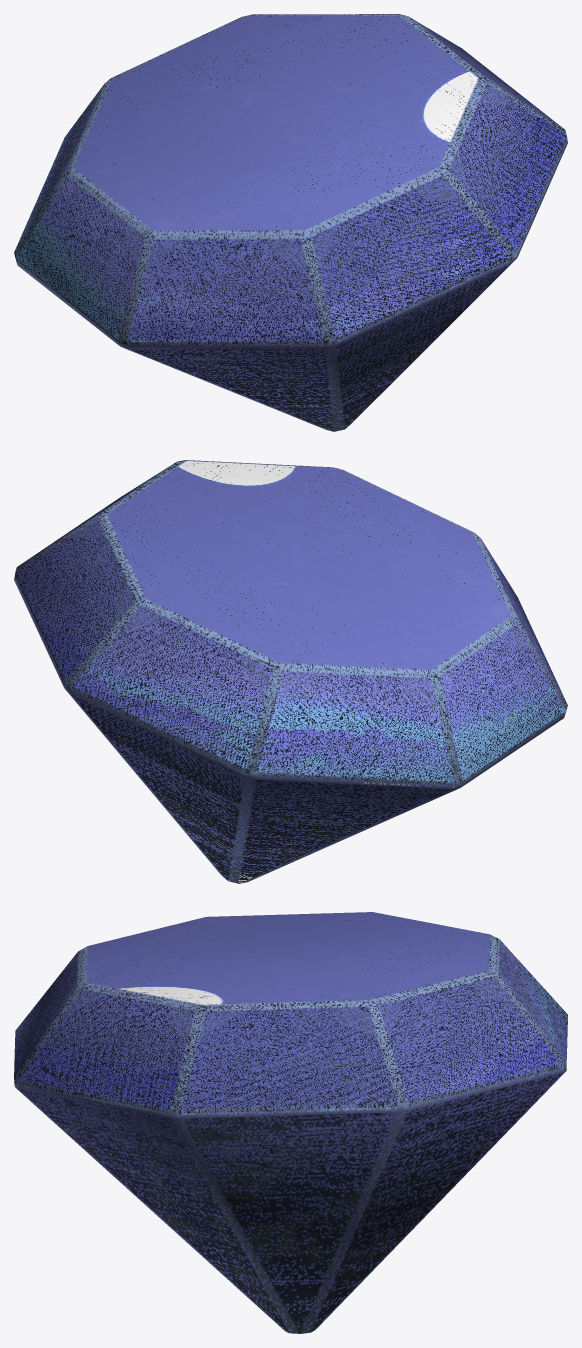
The model's file is gem.fbx.
3 views of the same model, one above another, from view 1: azimuth 30°, elevation 25°; view 2: azimuth 150°, elevation 25°; view 3: azimuth 270°, elevation 25° (orthographic). The views are drawn at different scales.
Parts seen in each view (by area): view 1: gems; view 2: gems; view 3: gems.
Boxes of the visible parts, x1=… form: gems: x1=14, y1=14, x2=567, y2=431; gems: x1=14, y1=460, x2=567, y2=883; gems: x1=14, y1=912, x2=567, y2=1333.
Bounding box in the file's own units: 179 × 139 × 183.
Materials: 1 (1 with a texture image).
